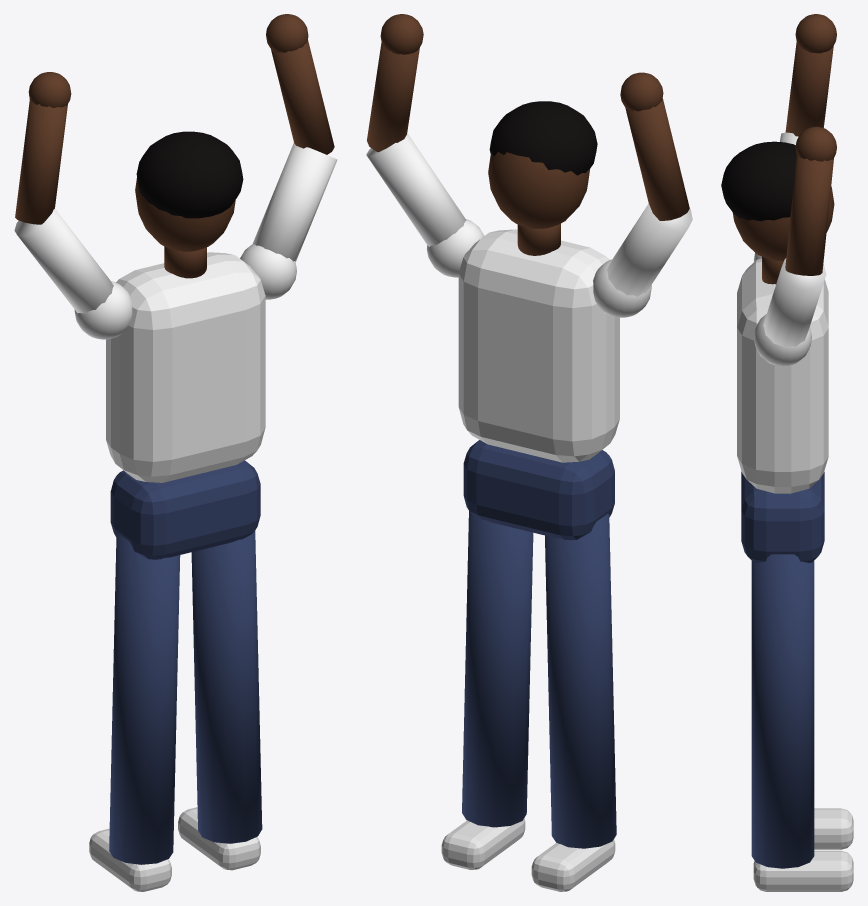
Rendered from Person_Cheer.fbx.
3 renders of one model, left to right at view 1: azimuth 30°, elevation 25°; view 2: azimuth 150°, elevation 25°; view 3: azimuth 270°, elevation 25°, orthographic. The views are drawn at different scales.
Visible parts, largest first — view 1: Person_Cheer; view 2: Person_Cheer; view 3: Person_Cheer.
Part boxes in pixels (x1=…): Person_Cheer: x1=14, y1=14, x2=337, y2=891; Person_Cheer: x1=366, y1=14, x2=692, y2=891; Person_Cheer: x1=721, y1=14, x2=853, y2=891.
Size of the model in its own units: 0.853 by 2.1 by 0.3183.
